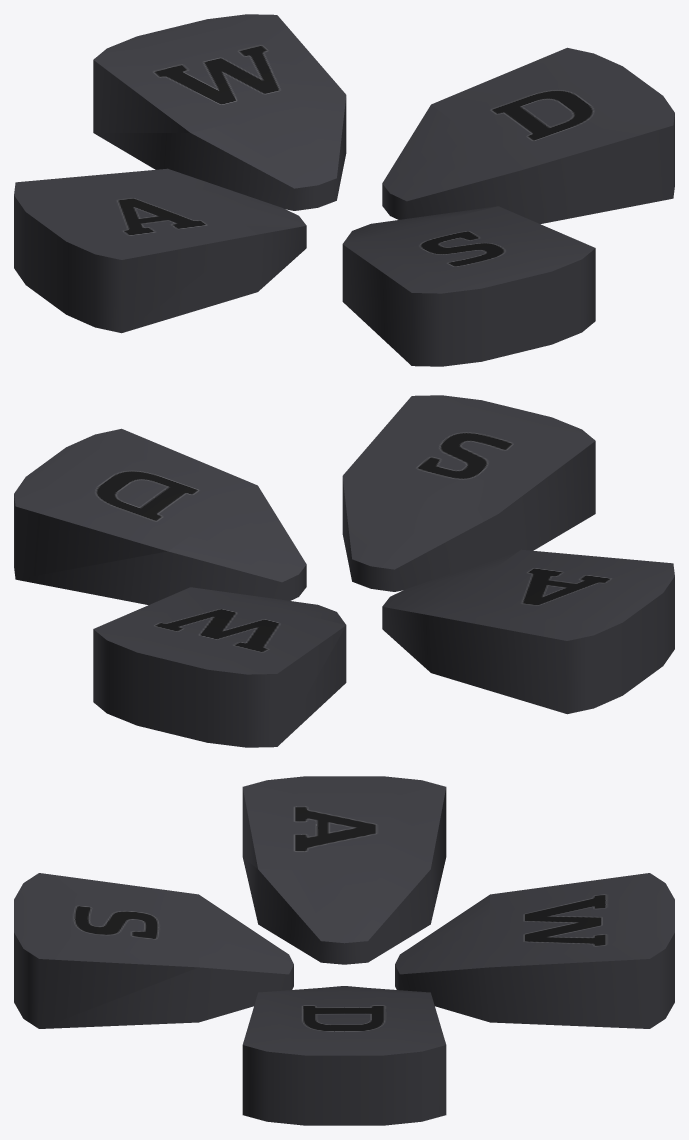
File: movement_orientation.FBX
3 renders of one model, top to bottom at view 1: azimuth 30°, elevation 25°; view 2: azimuth 150°, elevation 25°; view 3: azimuth 270°, elevation 25°, orthographic. The views are drawn at different scales.
Visible parts, largest first — view 1: up; view 2: up; view 3: up.
Boxes of the visible parts, bbox=[...] form: up: bbox=[14, 14, 674, 366]; up: bbox=[14, 395, 674, 747]; up: bbox=[14, 776, 674, 1125].
Size of the model in its own units: 1.22 by 0.1428 by 1.22.
